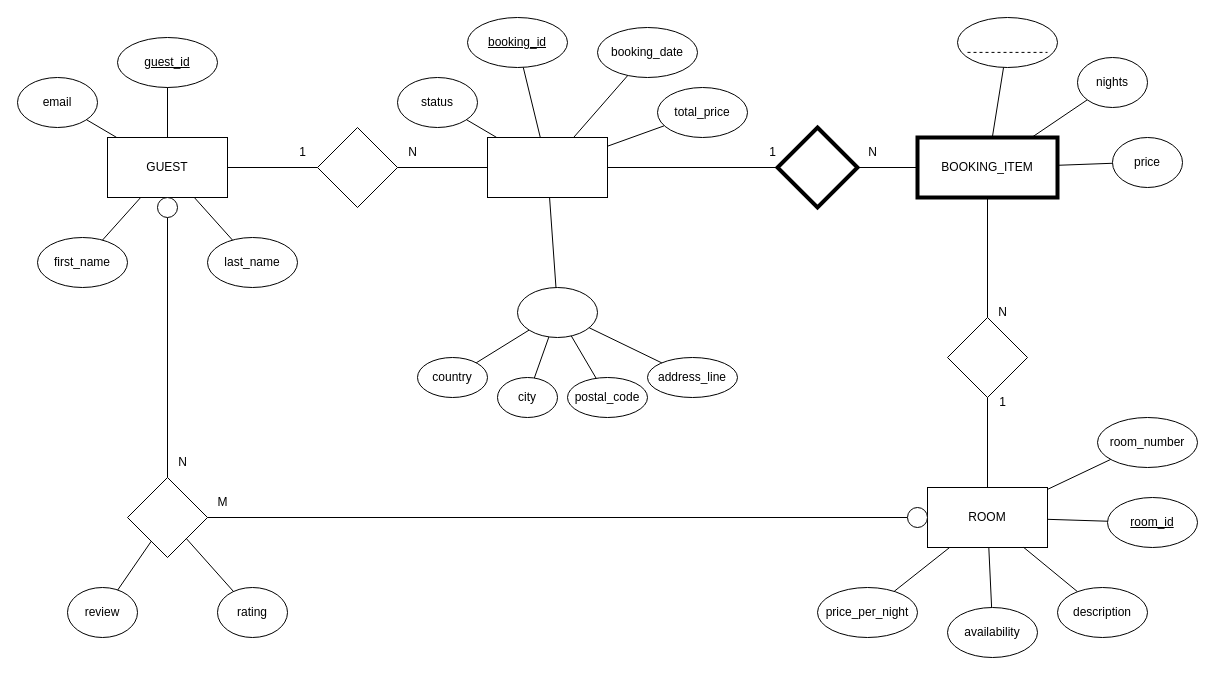
This 1215x675 diagram has some shape labels left out. Here are the shapes that lost their labels. From the top down, the box of each, then its label:
(956, 16, 1058, 68): item_number
(316, 126, 398, 208): has
(486, 136, 608, 198): BOOKING
(775, 125, 859, 209): contains
(516, 286, 598, 338): address
(946, 316, 1028, 398): for
(126, 476, 208, 558): rates
